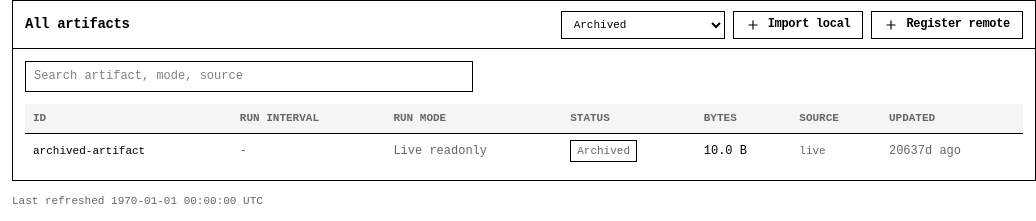
Scenario: ResearchArtifactsPage › switching presets replaces the previous preset statuses
The image size is (1036, 221).
Select "Available" in the dropdown named "artifact preset" at (643,24), box [561,10,725,38]
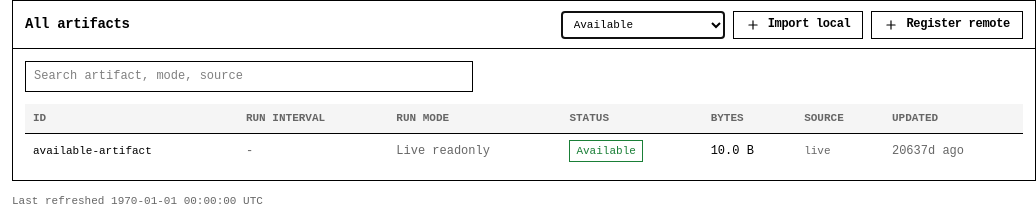
Check: the link "available-artifact" is shown, box [33,145,152,157]
Check: the link "archived-artifact" is gone
